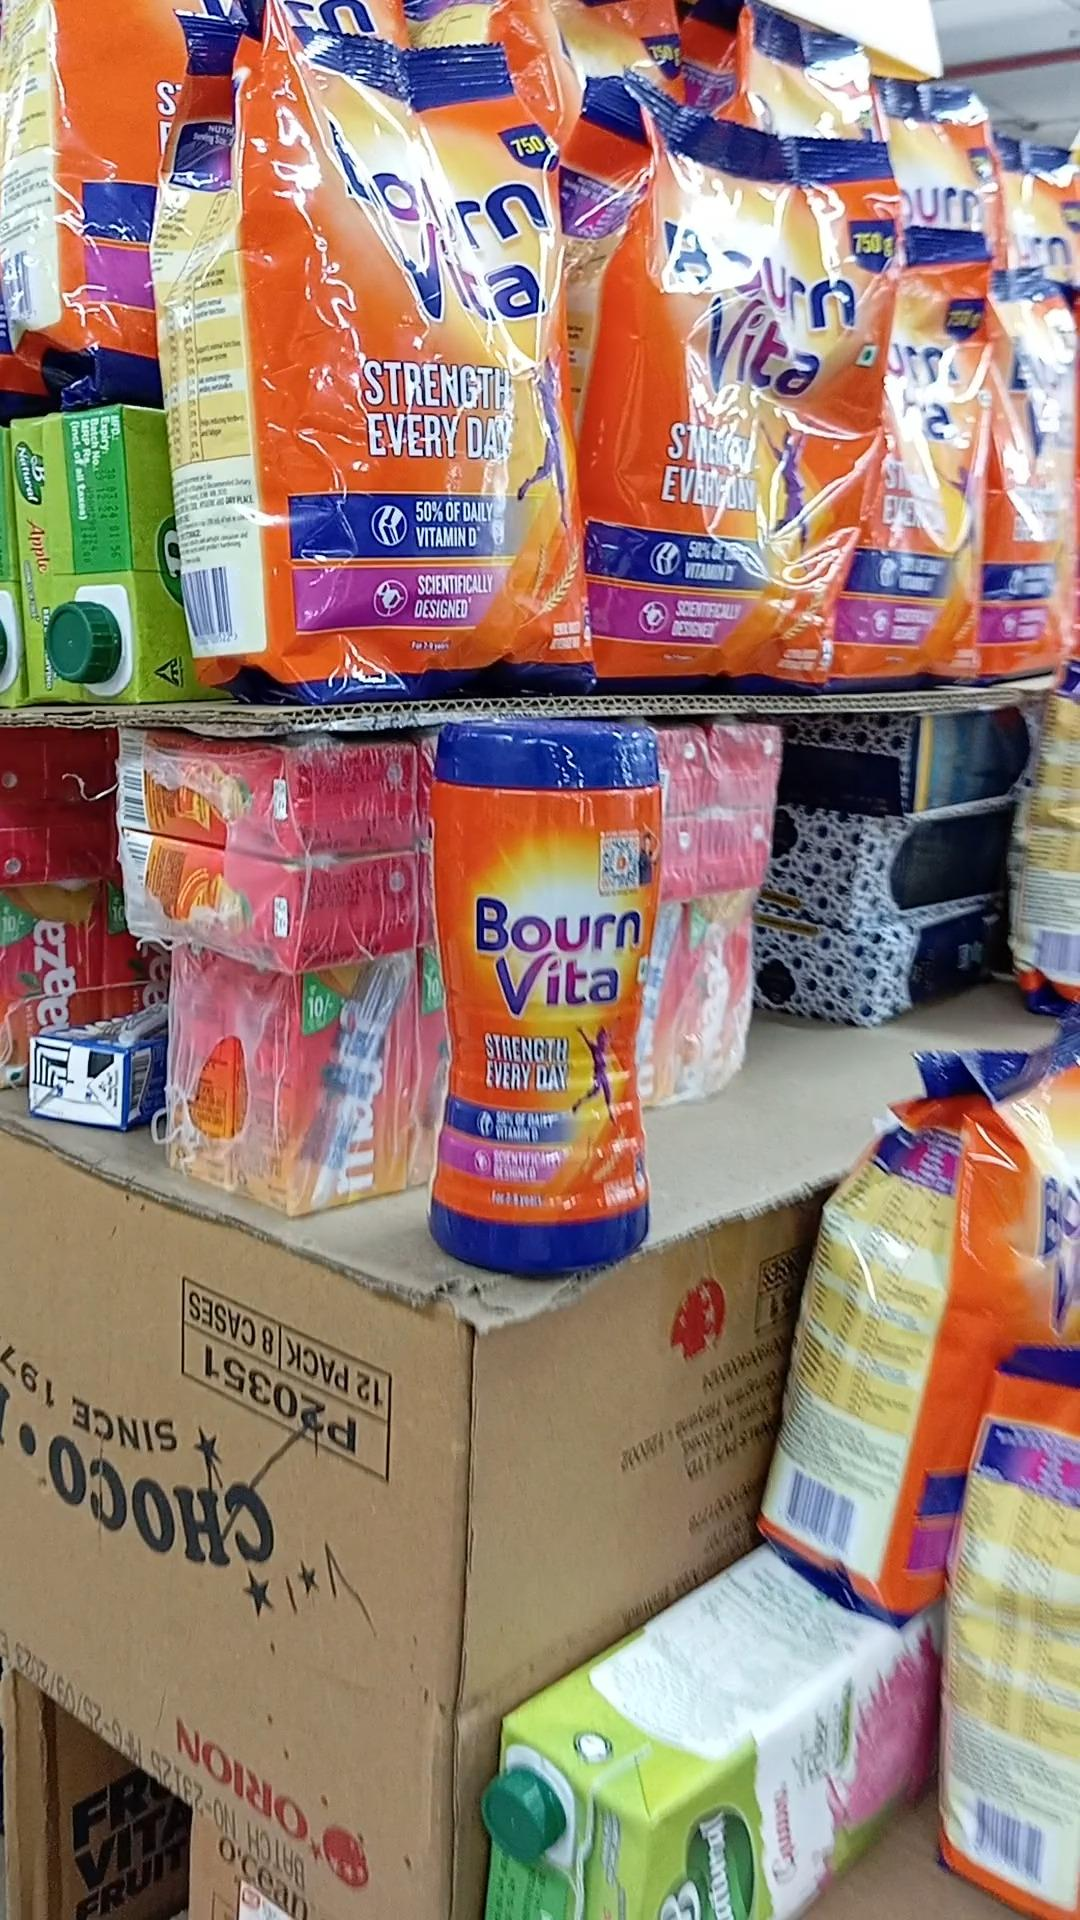BOURN_VITA_200_G_JAR: (429, 707, 655, 1279)
